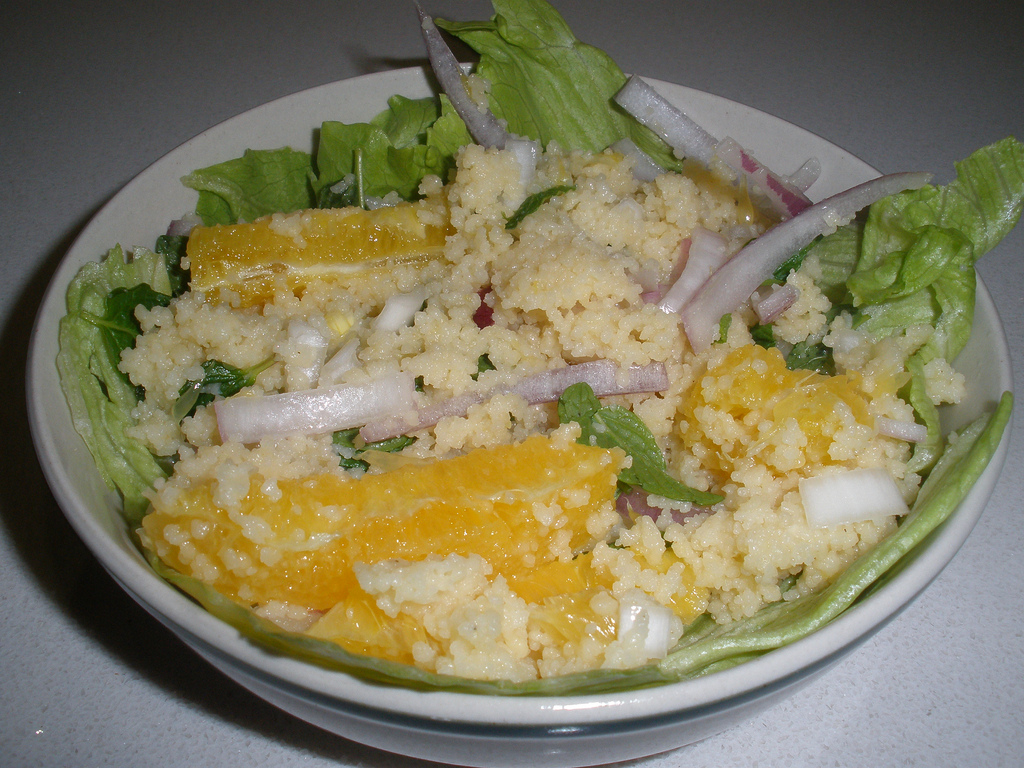chopped lettuce: (868, 138, 1009, 338), (268, 107, 622, 148)
